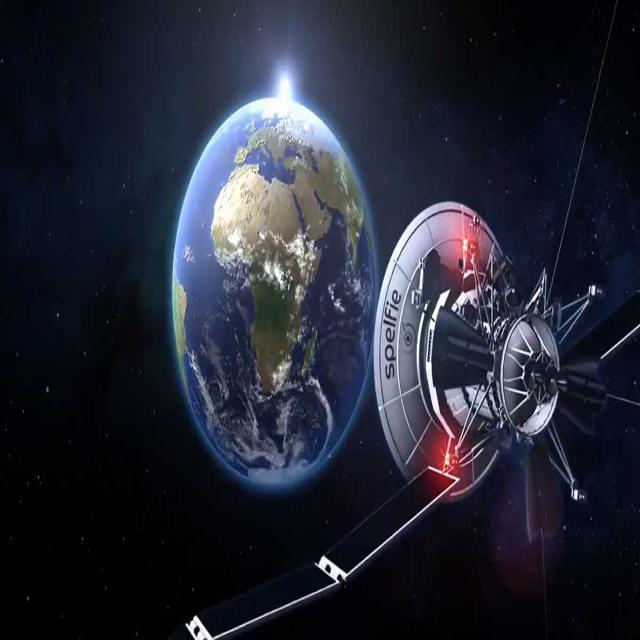sat: (178, 126, 640, 640)
